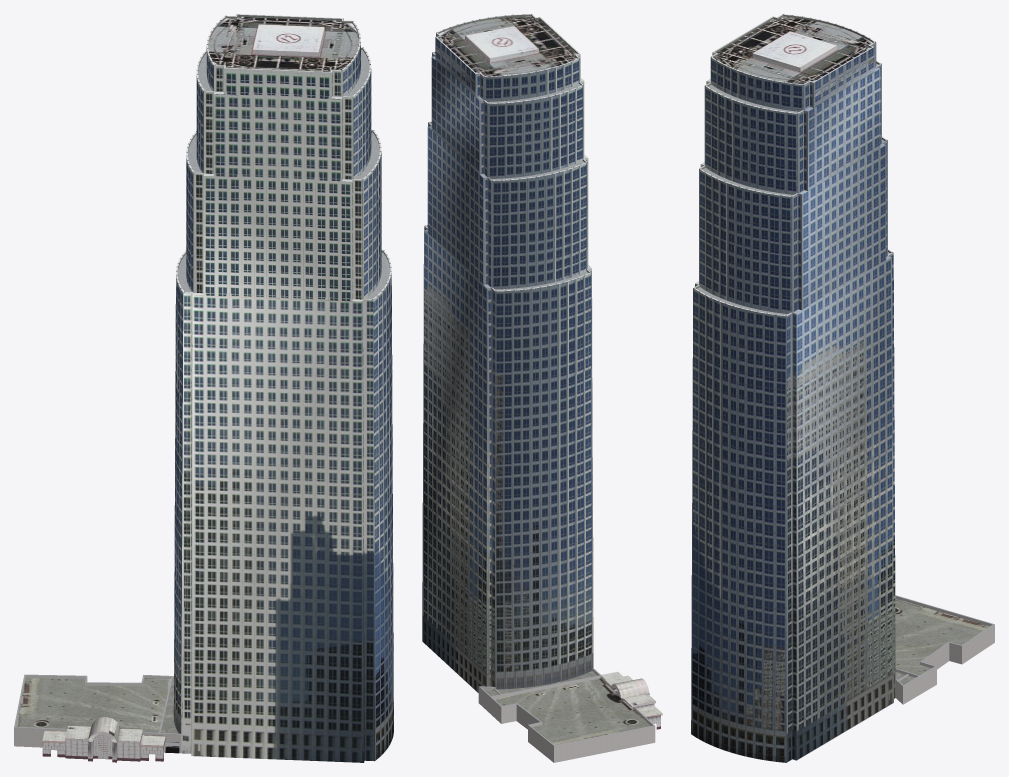
The model's file is texturedbldg.fbx.
3 renders of one model, left to right at view 1: azimuth 30°, elevation 25°; view 2: azimuth 150°, elevation 25°; view 3: azimuth 270°, elevation 25°, orthographic. The views are drawn at different scales.
Visible parts, largest first — view 1: Group2, Group1; view 2: Group2, Group1; view 3: Group2.
Part boxes in pixels (x1,y1,x2,y2): Group2: [14, 14, 393, 762]; Group1: [42, 717, 165, 762]; Group2: [422, 14, 655, 762]; Group1: [601, 671, 662, 729]; Group2: [691, 14, 994, 762].
Bounding box in the file's own units: 4166 × 8700 × 3579.
